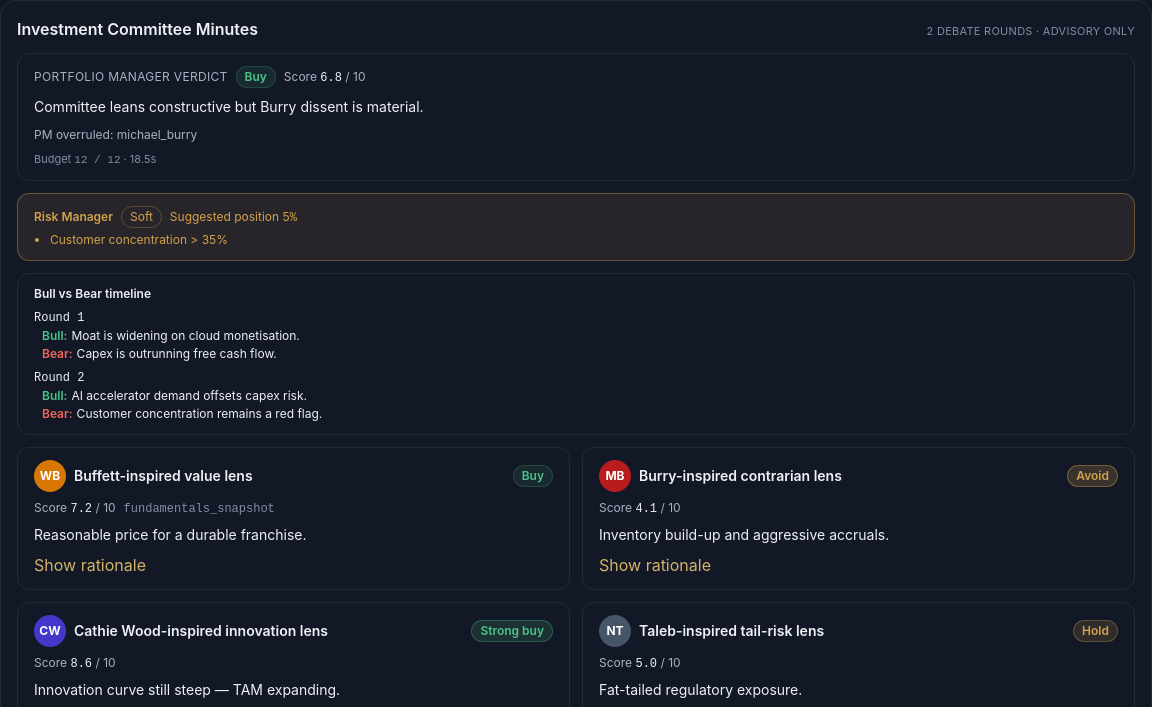
Test: CommitteeMinutesPanel › toggles rationale visibility when "Show rationale" is clicked
This screenshot has width=1152, height=707.
Step 1. Click the button "Show rationale" below "7.2" → click(90, 564), box [34,552,146,576]
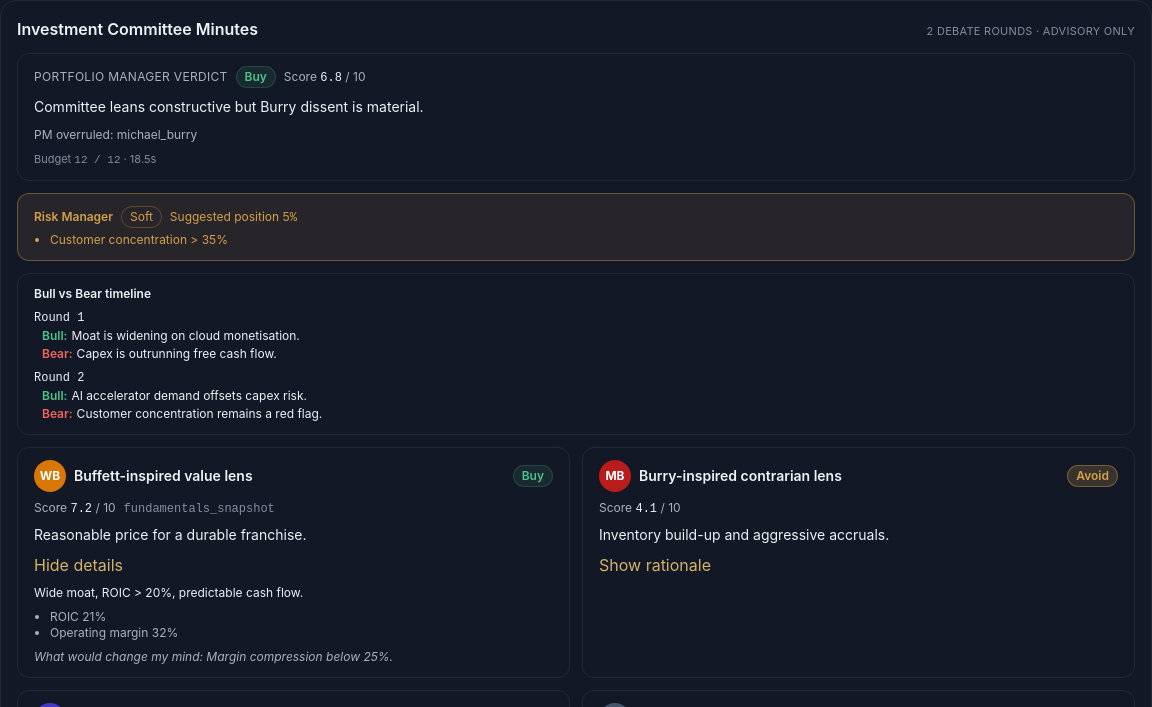
Now the text "Wide moat, ROIC > 20%, predictable cash flow." is shown, box [34,584,303,600]
